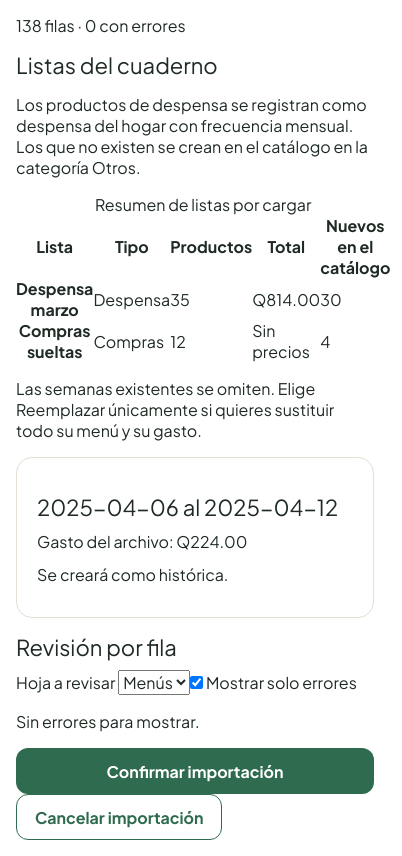
Test case: HU-18 Carga inicial del cuaderno en pantalla › tras confirmar muestra el reporte de conciliación con gasto mínimo, máximo y promedio
The image size is (402, 856).
(page scrolled)
Click the button "Confirmar importación": (195, 771) [16,748,374,794]
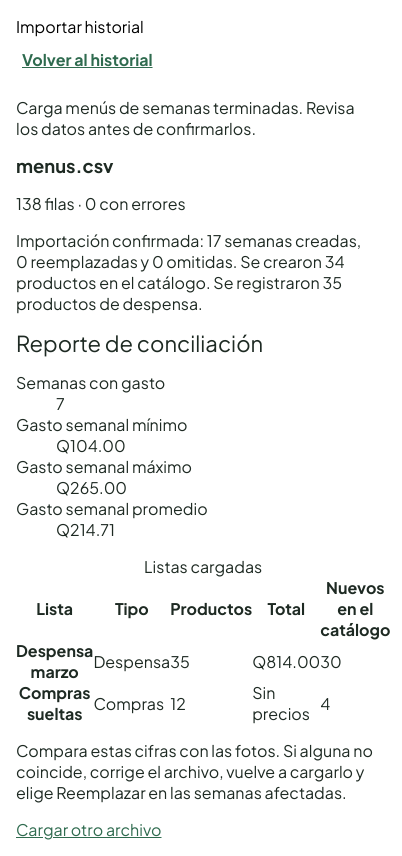
Expected: the text "Q104.00" is shown, [56,436,126,456]
Expected: the text "Q265.00" is shown, [56,478,127,498]
Expected: the text "Q214.71" is shown, [56,520,115,540]
